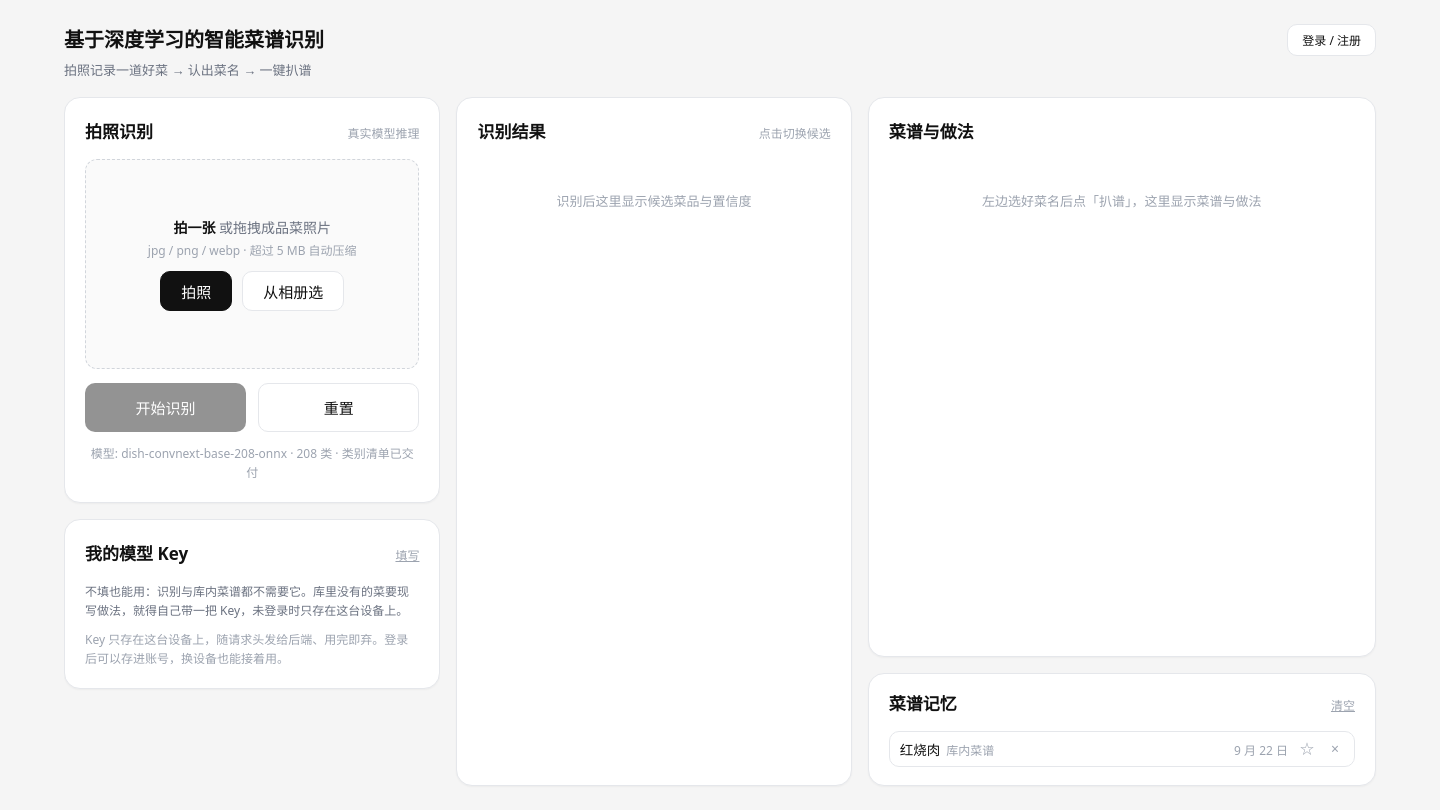
Test: RecipeRecommendPage 菜谱记忆（FR-15） › 清空后记忆列表回到空态
Click the button "清空": point(1343, 705) [1331, 696, 1355, 714]
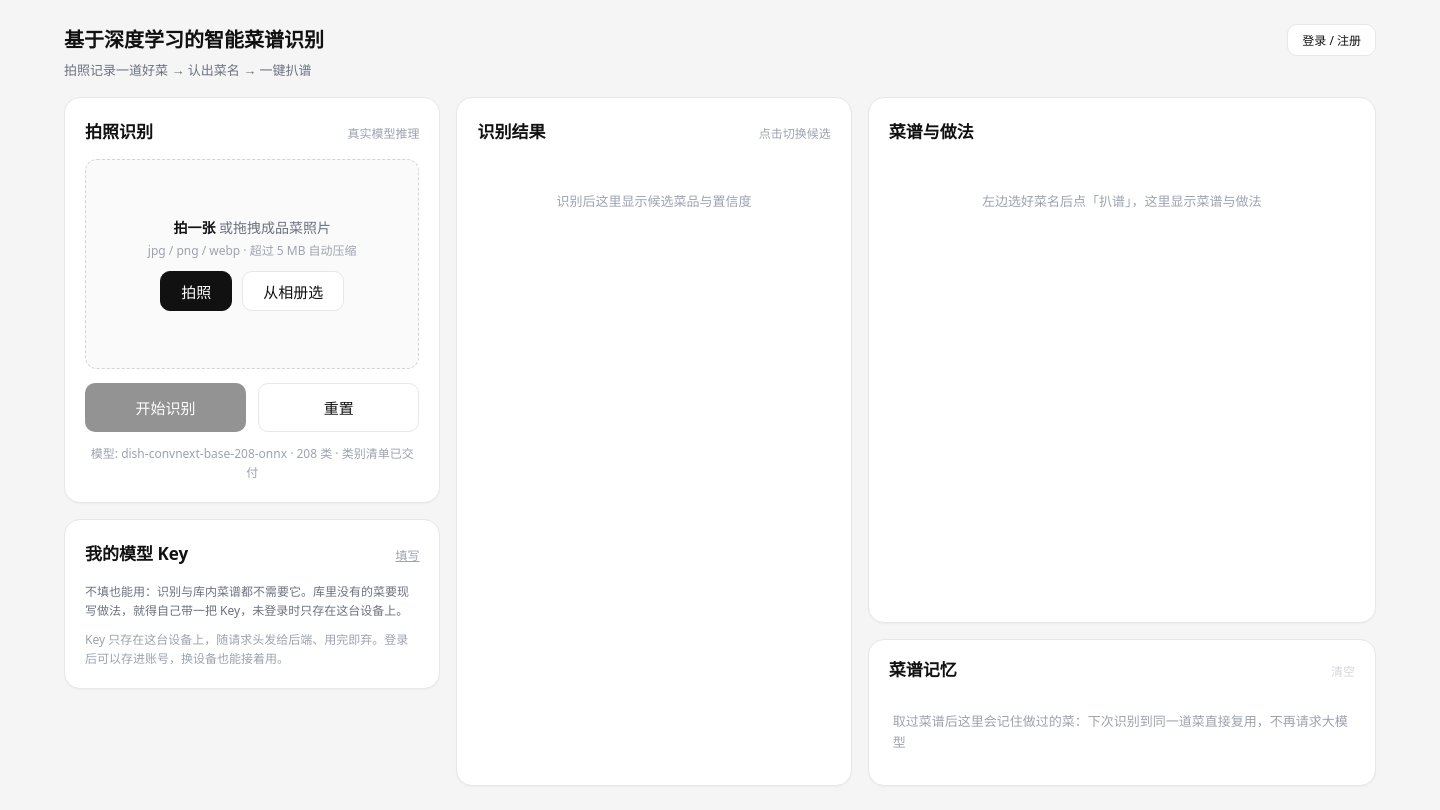
Result: the text "取过菜谱后这里会记住做过的菜：下次识别到同一道菜直接复用，不再请求大模型" is shown at [893, 712, 1348, 751]
